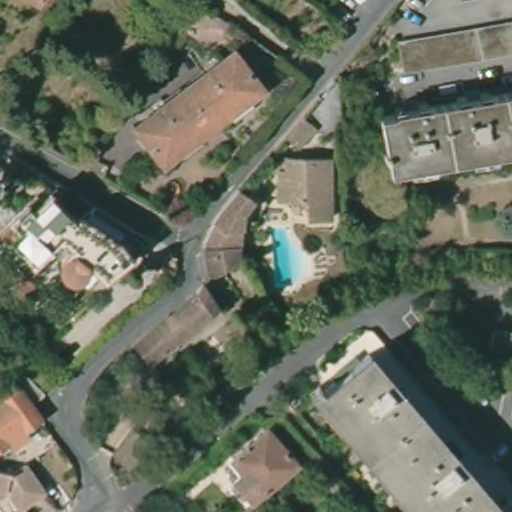pool: (262, 222, 300, 296)
